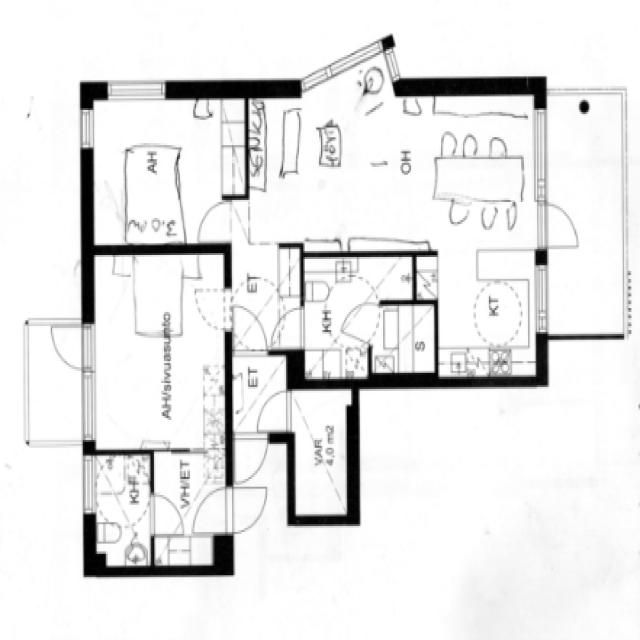door: (221, 482, 270, 538), (190, 483, 236, 540), (538, 196, 582, 252), (48, 321, 93, 372), (231, 430, 272, 485), (255, 385, 298, 434), (230, 302, 269, 356), (149, 488, 186, 540), (195, 197, 234, 243), (273, 303, 308, 351), (195, 286, 232, 331), (298, 64, 331, 92)
window: (102, 75, 171, 103), (532, 104, 552, 198), (530, 259, 552, 339), (79, 364, 97, 442), (79, 452, 99, 521), (298, 62, 332, 92), (76, 102, 95, 155), (322, 52, 353, 84)
zone: (249, 92, 534, 248), (88, 252, 226, 454), (92, 94, 244, 247), (438, 248, 538, 379), (150, 452, 230, 569), (302, 255, 372, 386), (291, 386, 353, 522), (92, 451, 153, 570), (372, 302, 435, 378)
